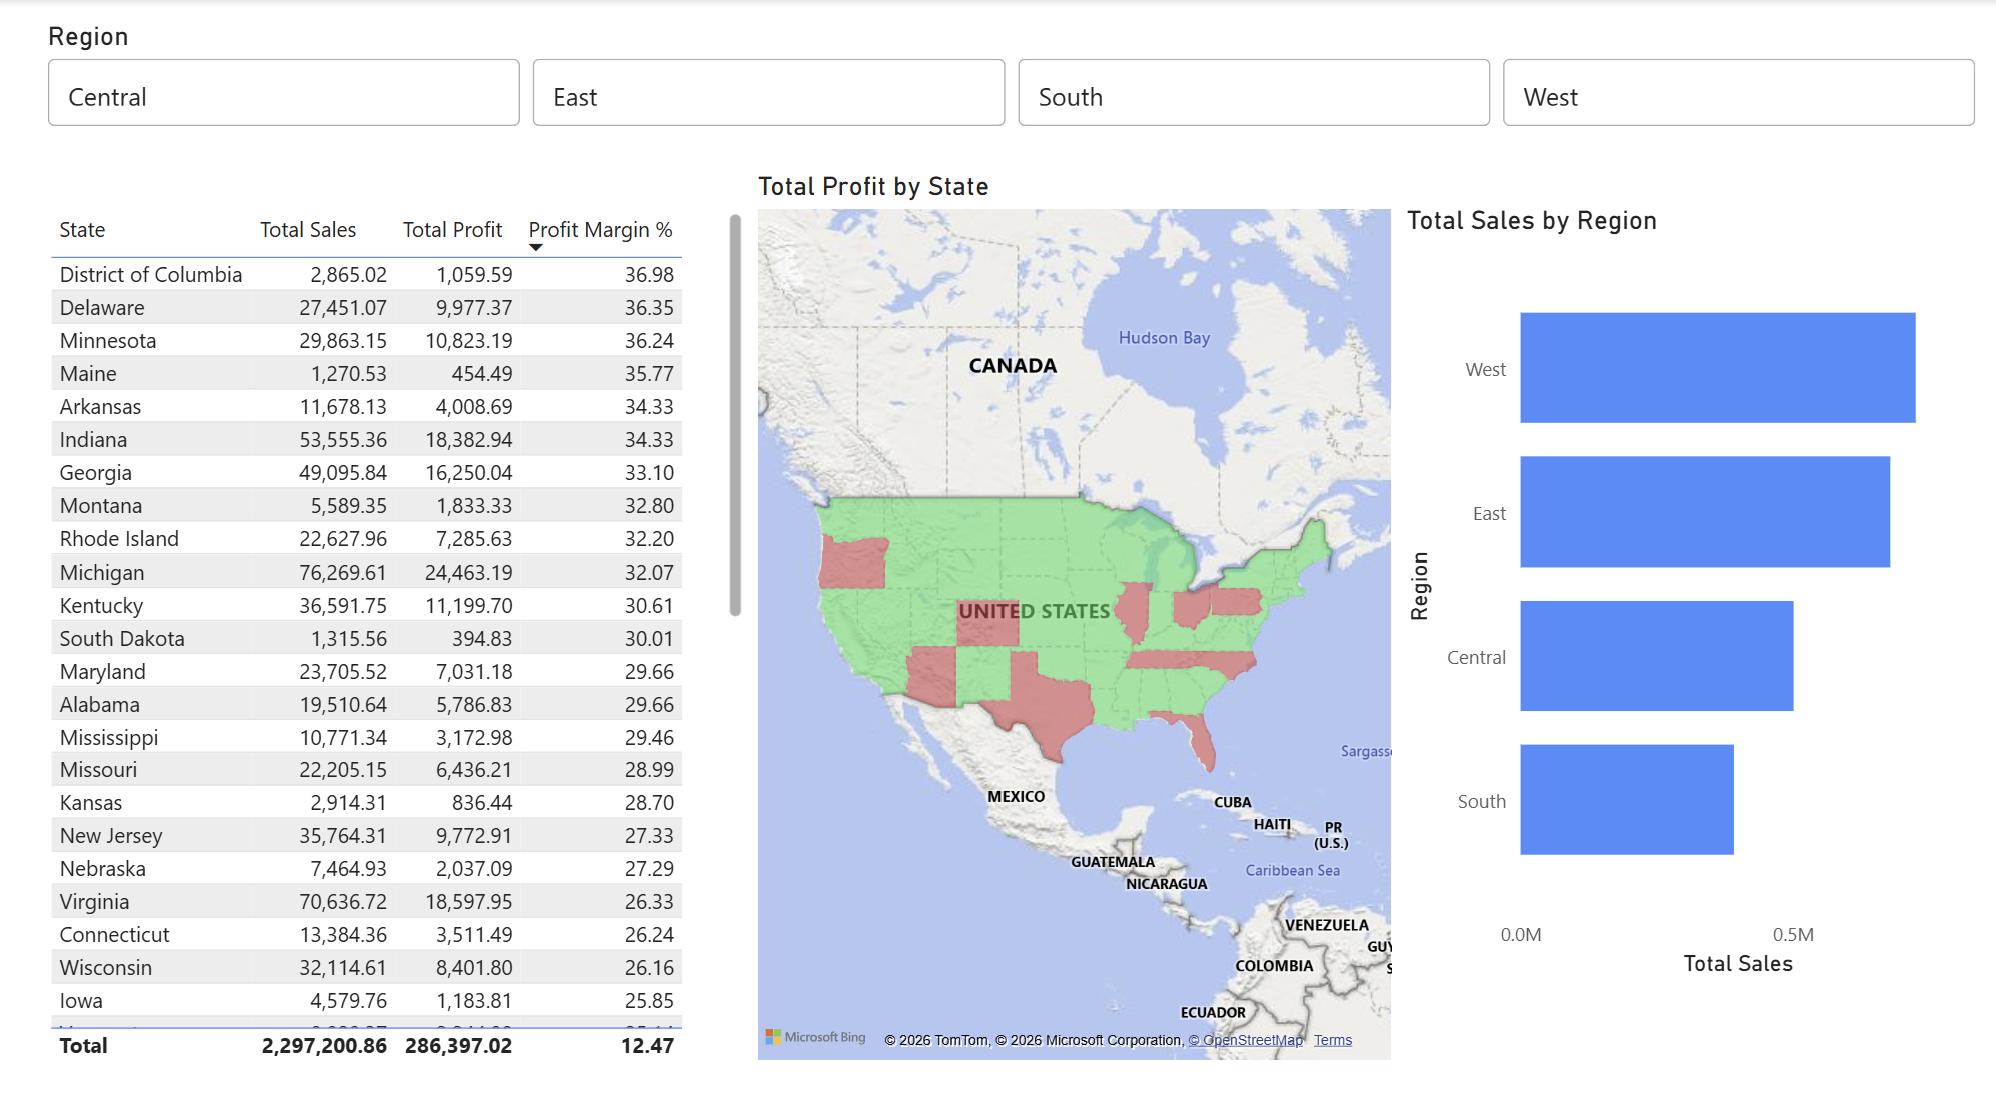

This screenshot's page, from the dashboard's own definition file:
{"tool":"powerbi","page":{"name":"Regional Performance","canvas":[1280,720],"ordinal":3},"visuals":[{"type":"barChart","fields":{"Y":["Orders.Total Sales"],"Category":["Orders.Region"]},"box":[894.3,131.4,374.3,495.7],"z":0},{"type":"tableEx","fields":{"Values":["Orders.State","Orders.Total Sales","Orders.Total Profit","Orders.Profit Margin %"]},"box":[29.1,131.7,451.7,549.7],"z":1000},{"type":"advancedSlicerVisual","fields":{"Values":["Orders.Region"]},"box":[28.6,14.3,1238.6,72.9],"z":2000},{"type":"filledMap","fields":{"Category":["Orders.State"]},"box":[480.8,110.2,413.4,571.1],"z":3000}]}

Visuals, with their boxes in screenshot pixels (x1, y1, x2, y2), scaled from the page's 1280x720 canvas onto the 1996x1118 screenshot:
barChart - Orders.Total Sales x Orders.Region: 1395/204/1978/974
tableEx - Orders.State x Orders.Total Sales: 45/205/750/1058
advancedSlicerVisual - Orders.Region: 45/22/1976/135
filledMap - Orders.State: 750/171/1394/1058
